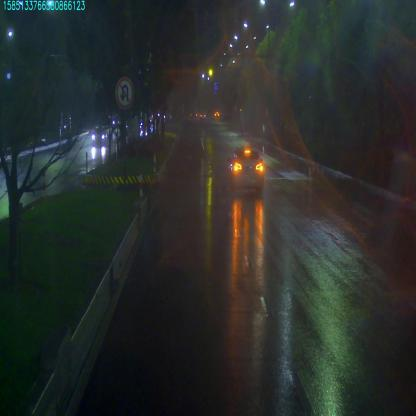traffic-light: (207, 66, 214, 75)
